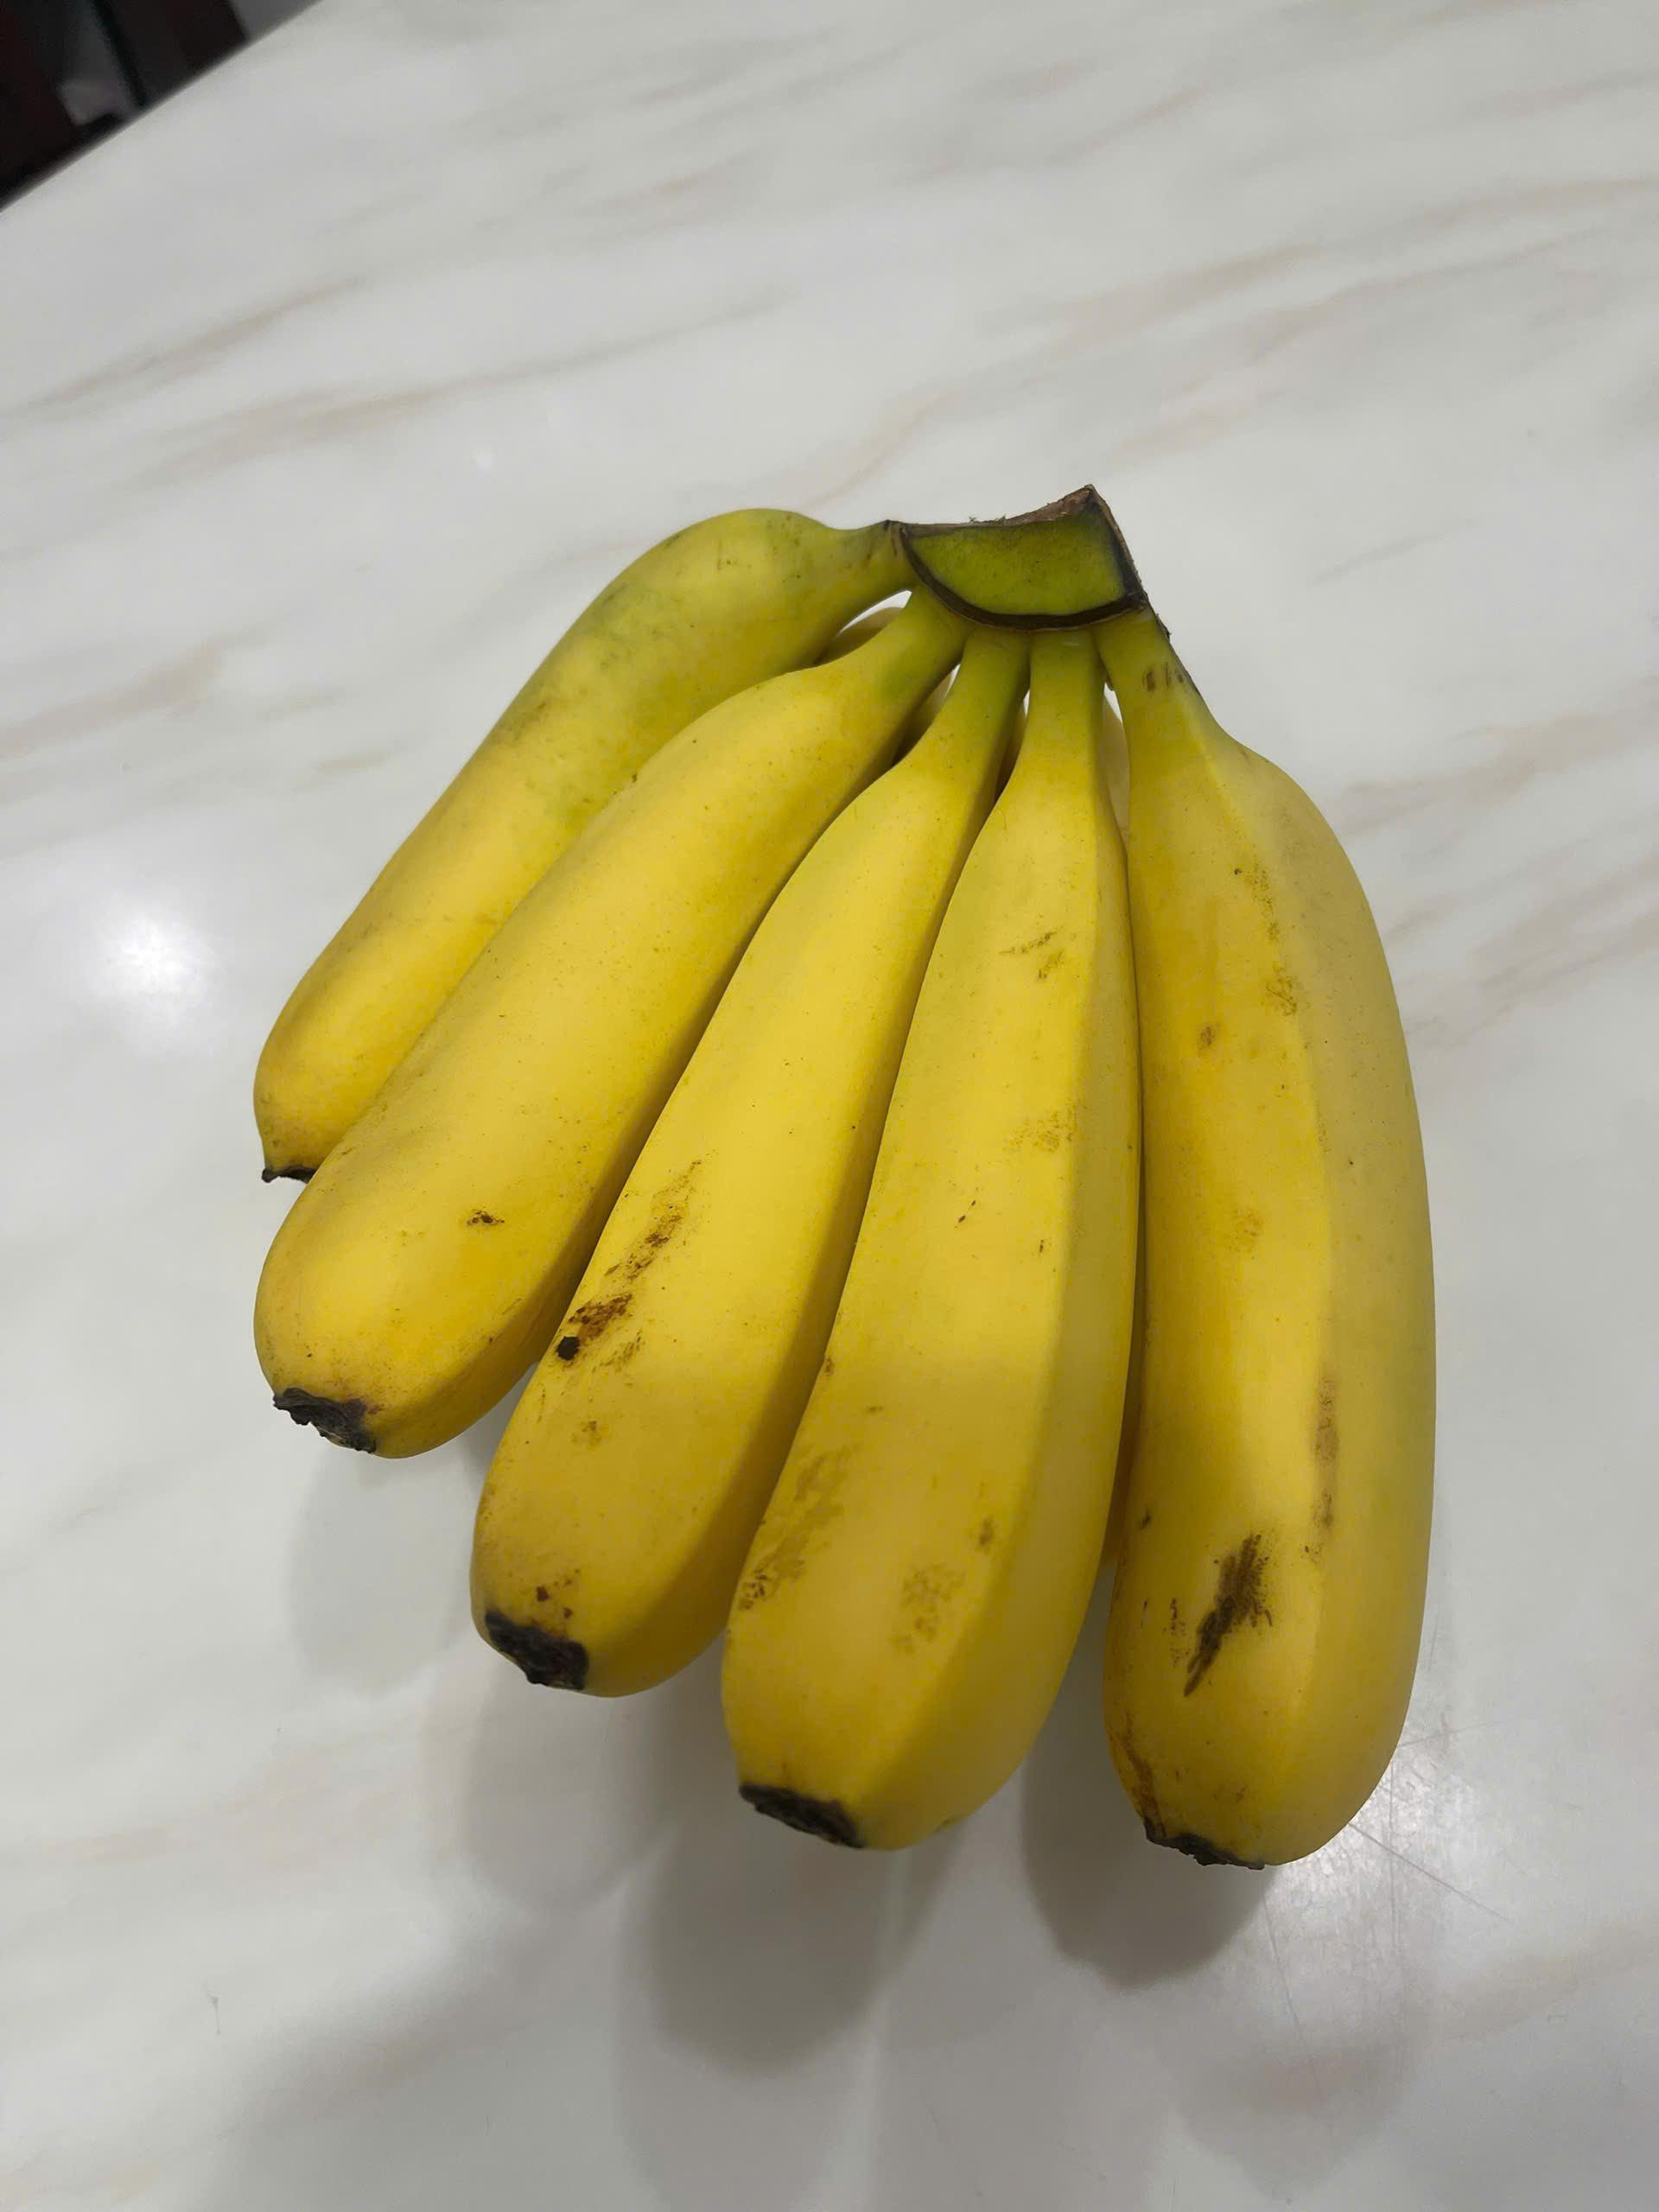banana: (202, 428, 1493, 1935), (286, 594, 988, 1698), (1080, 596, 1471, 1888)
